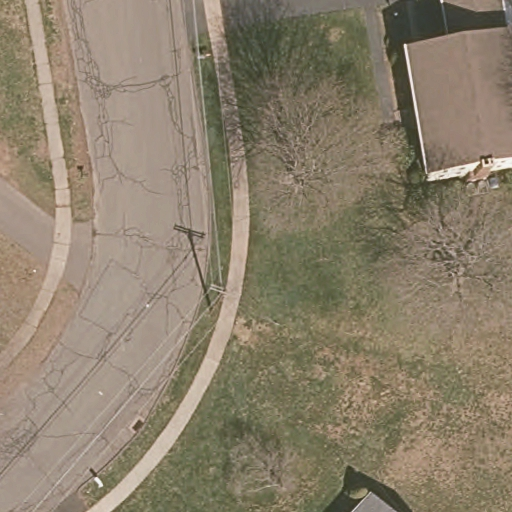DT: (208, 283, 239, 306)
